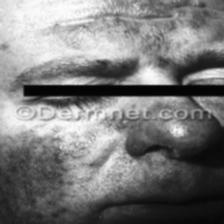Non-Cancerous Skin Condition: (56, 0, 212, 51), (0, 126, 79, 224), (100, 109, 136, 133)
